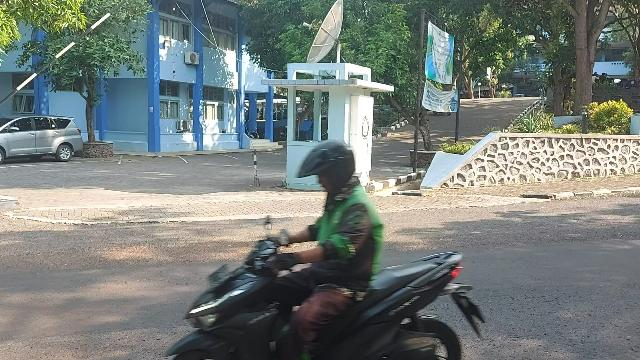helm: (297, 141, 356, 193)
motor: (165, 218, 487, 360)
